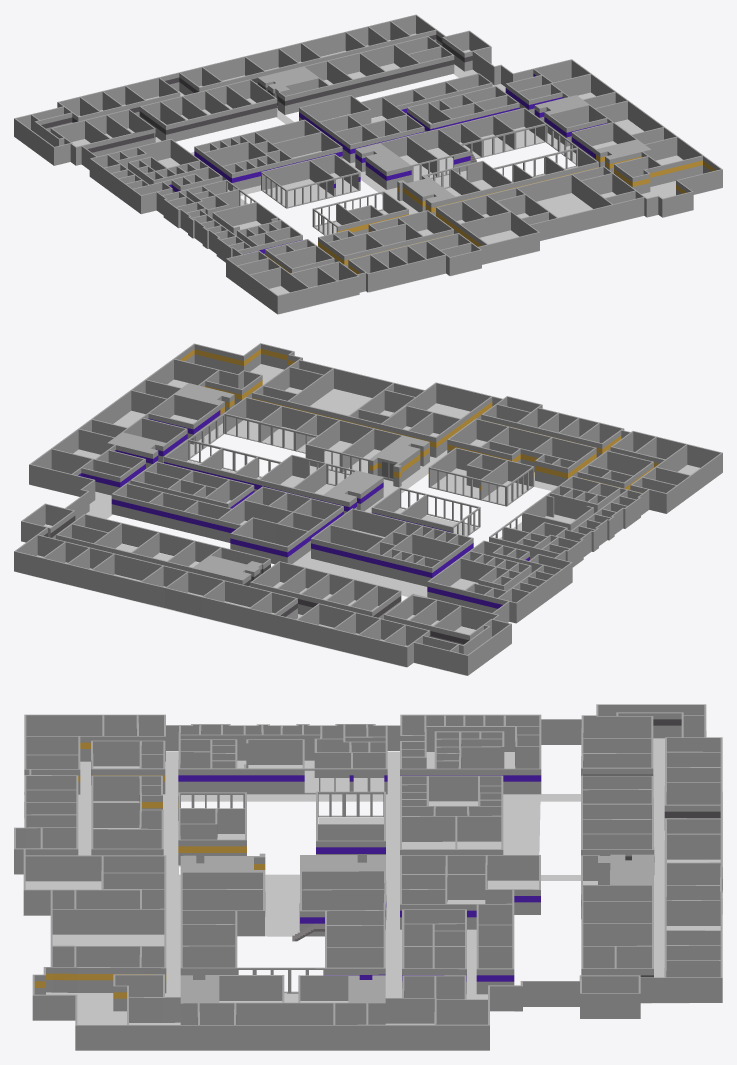
Rendered from 2ndFloorModel.glb.
3 views of the same model, one above another, from view 1: azimuth 30°, elevation 25°; view 2: azimuth 150°, elevation 25°; view 3: azimuth 270°, elevation 25° (orthographic). The views are drawn at different scales.
Visible parts, largest first — view 1: walls, Plane; view 2: walls, Plane; view 3: walls, Plane.
Boxes of the visible parts, left/top/right/bottom form: walls: left=14, top=14, right=722, bottom=314; Plane: left=71, top=33, right=721, bottom=314; walls: left=14, top=343, right=722, bottom=675; Plane: left=22, top=364, right=699, bottom=675; walls: left=14, top=704, right=722, bottom=1050; Plane: left=15, top=731, right=722, bottom=1024.
Bounding box in the file's own units: 127 × 4.95 × 118.
